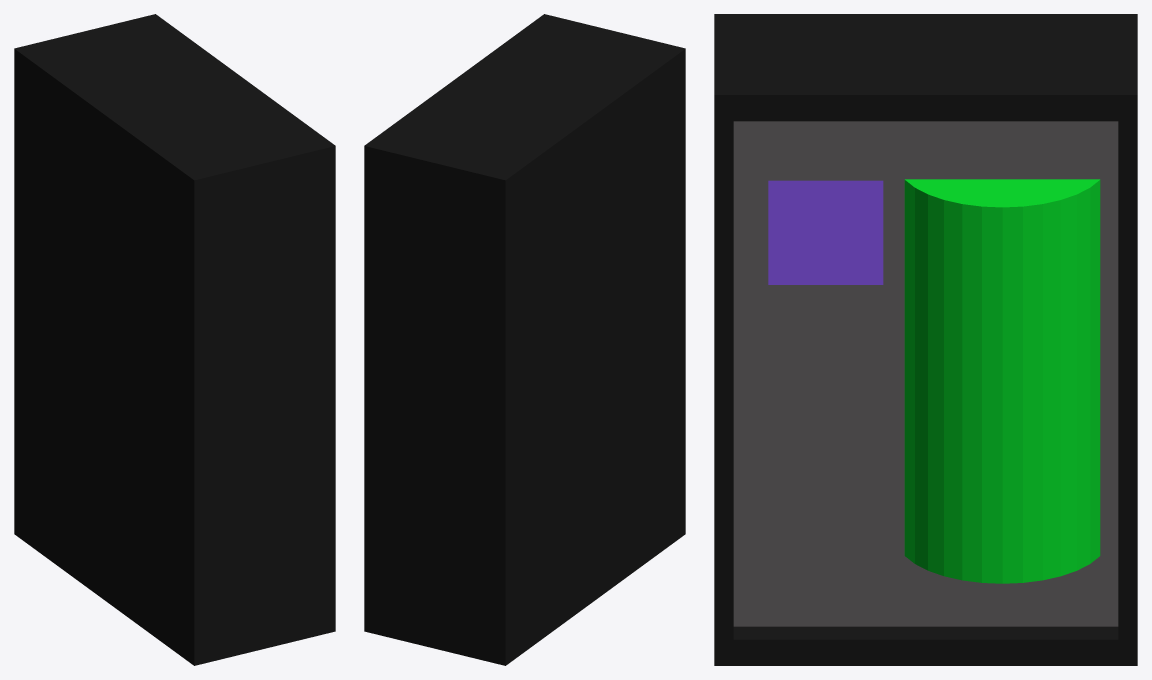
Rendered from _uitPower.fbx.
3 renders of one model, left to right at view 1: azimuth 30°, elevation 25°; view 2: azimuth 150°, elevation 25°; view 3: azimuth 270°, elevation 25°, orthographic. The views are drawn at different scales.
Visible parts, largest first — view 1: Cube; view 2: Cube; view 3: Cube.001, Cube, Cylinder, Plane.
Part boxes in pixels (x1,y1,x2,y2): Cube: [14, 14, 335, 665]; Cube: [364, 14, 685, 665]; Cube.001: [733, 121, 1118, 626]; Cube: [714, 14, 1137, 665]; Cylinder: [904, 179, 1100, 583]; Plane: [768, 180, 883, 284].
Bounding box in the file's own units: 72.19 × 200 × 134.
